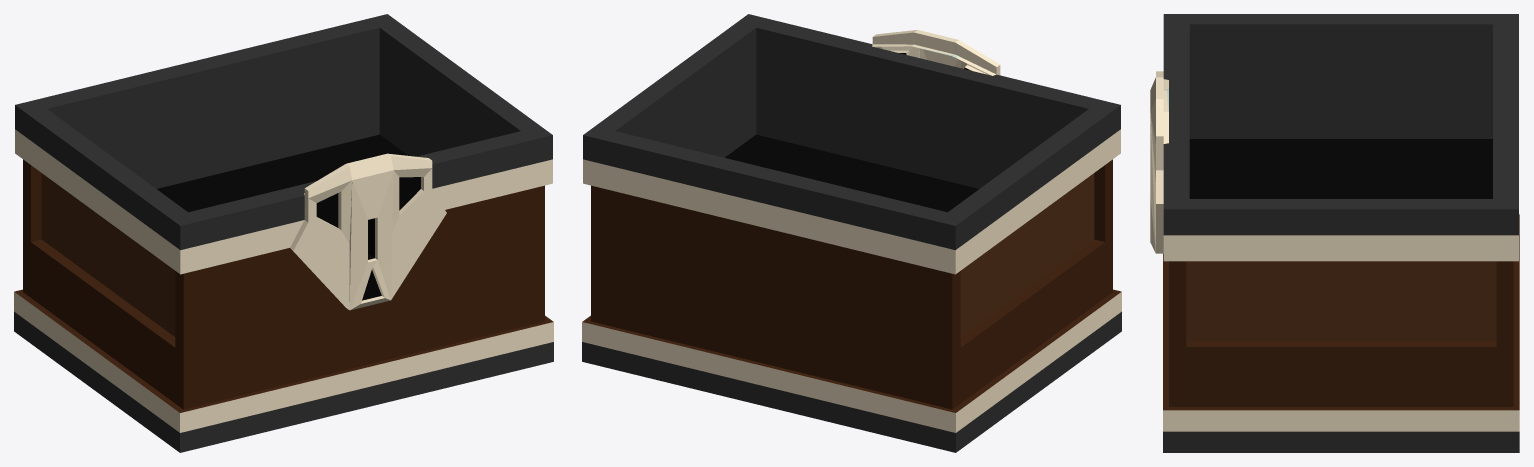
File: box_Bottom.fbx
3 renders of one model, left to right at view 1: azimuth 30°, elevation 25°; view 2: azimuth 150°, elevation 25°; view 3: azimuth 270°, elevation 25°, orthographic. The views are drawn at different scales.
Parts seen in each view (by area): view 1: ChestBD; view 2: ChestBD; view 3: ChestBD.
Part boxes in pixels (bbox=[...]): ChestBD: bbox=[14, 14, 553, 452]; ChestBD: bbox=[582, 14, 1121, 452]; ChestBD: bbox=[1150, 14, 1519, 452].
Bounding box in the file's own units: 70 × 44.48 × 55.78.
